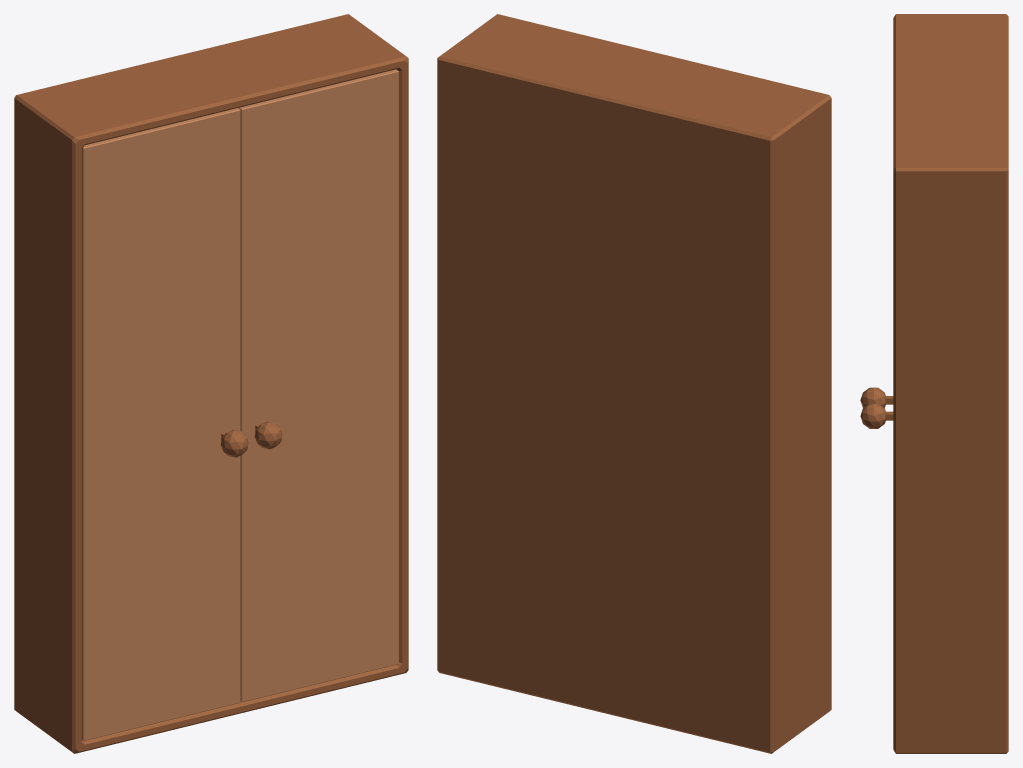
3 renders of one model, left to right at view 1: azimuth 30°, elevation 25°; view 2: azimuth 150°, elevation 25°; view 3: azimuth 270°, elevation 25°, orthographic. The views are drawn at different scales.
Visible parts, largest first — view 1: Shelf B.001, Shelf B.002, Shelf B; view 2: Shelf B; view 3: Shelf B, Shelf B.002, Shelf B.001.
Boxes of the visible parts, box(x1,y1,x2,y2) form: Shelf B.001: box(82, 108, 248, 740); Shelf B.002: box(239, 69, 398, 702); Shelf B: box(14, 14, 408, 753); Shelf B: box(437, 14, 831, 753); Shelf B: box(893, 14, 1008, 753); Shelf B.002: box(860, 403, 893, 428); Shelf B.001: box(860, 387, 893, 407).
Size of the model in its own units: 6.14 by 10.76 by 2.46.
